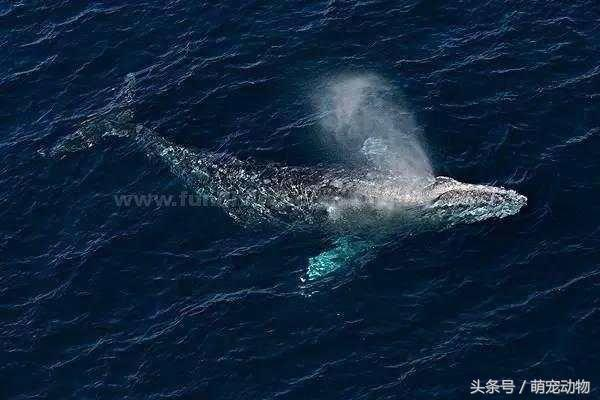fish: (44, 67, 530, 296)
